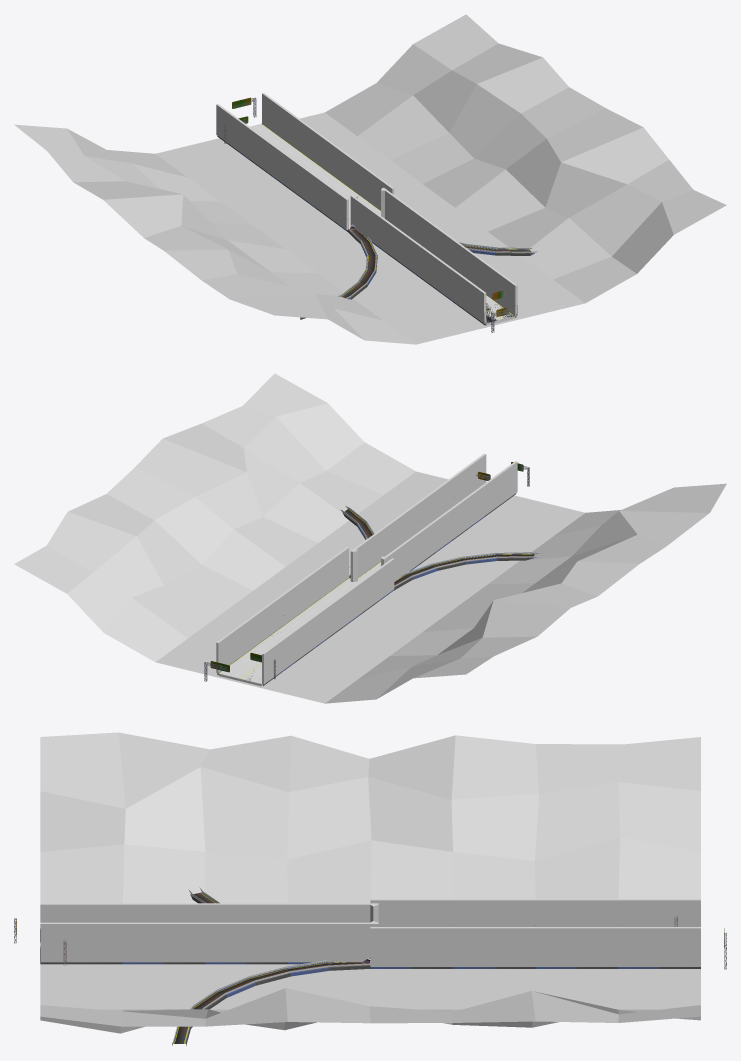
File: RoadLevel2Last.fbx
3 renders of one model, top to bottom at view 1: azimuth 30°, elevation 25°; view 2: azimuth 150°, elevation 25°; view 3: azimuth 270°, elevation 25°, orthographic. The views are drawn at different scales.
Parts seen in each view (by area): view 1: RoadLevel2Last, RoadLevel2Last_cldr_walls, RoadLevel2Last_cldr; view 2: RoadLevel2Last, RoadLevel2Last_cldr_walls, RoadLevel2Last_cldr; view 3: RoadLevel2Last, RoadLevel2Last_cldr_walls.
Boxes of the visible parts, x1,y1,x2,y2 form: RoadLevel2Last: (14, 14, 726, 344); RoadLevel2Last_cldr_walls: (216, 93, 517, 323); RoadLevel2Last_cldr: (250, 124, 515, 325); RoadLevel2Last: (14, 373, 726, 703); RoadLevel2Last_cldr_walls: (216, 453, 517, 684); RoadLevel2Last_cldr: (218, 562, 380, 686); RoadLevel2Last: (14, 732, 726, 1045); RoadLevel2Last_cldr_walls: (40, 899, 700, 966).
Bounding box in the file's own units: 426 × 56.19 × 432.
